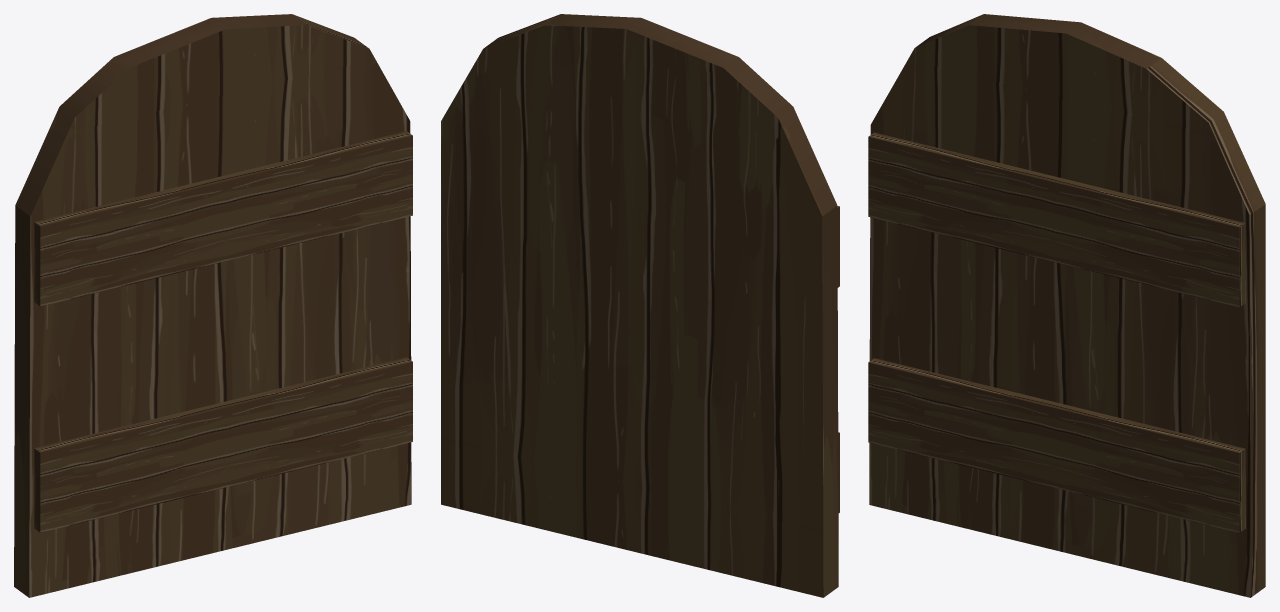
File: Door_1.fbx
The picture shows the model from 3 angles, left to right: view 1: azimuth 30°, elevation 25°; view 2: azimuth 150°, elevation 25°; view 3: azimuth 330°, elevation 25°; orthographic projection.
Parts seen in each view (by area): view 1: pCube4, pCube6, pCube5; view 2: pCube4; view 3: pCube4, pCube6, pCube5.
Part boxes in pixels (x1,y1,x2,y2): pCube4: (14, 14, 411, 597); pCube6: (34, 357, 412, 532); pCube5: (34, 131, 412, 306); pCube4: (441, 14, 838, 597); pCube4: (869, 14, 1265, 597); pCube6: (868, 358, 1245, 532); pCube5: (868, 132, 1245, 307).
Size of the model in its own units: 219 by 285 by 21.11.
1 material, 1 textured.
